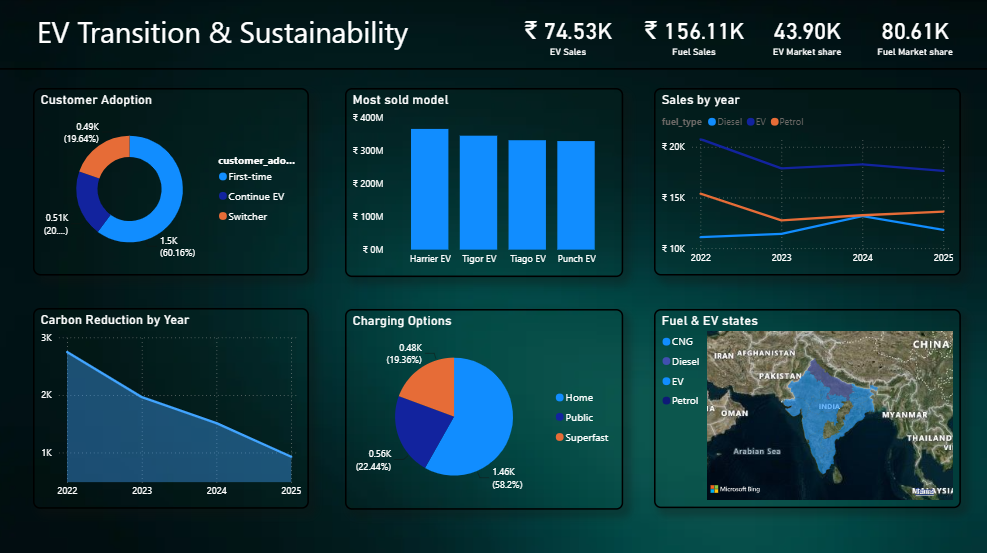

What the dashboard file says about the page in this screenshot:
{"tool":"powerbi","page":{"name":"Page 2","canvas":[1280,720],"ordinal":1},"visuals":[{"type":"donutChart","title":"Customer Adoption","fields":{"Category":["sustainability_data.customer_adoption"],"Y":["CountNonNull(sustainability_data.customer_adoption)"]},"box":[47,115.9,356.1,241.9],"z":0},{"type":"lineChart","title":"Sales by year","fields":{"Category":["transition_data.year"],"Y":["Sum(transition_data.total_sales)"],"Series":["transition_data.fuel_type"]},"box":[848.3,115.9,396.4,241.9],"z":1000},{"type":"pieChart","title":"Charging Options","fields":{"Y":["CountNonNull(sustainability_data.charging_type)"],"Category":["sustainability_data.charging_type"]},"box":[448.5,401.5,359.5,258.7],"z":2000},{"type":"areaChart","title":"Carbon Reduction by Year","fields":{"Y":["Sum(sustainability_data.carbon_reduction_tonnes)"],"Category":["sustainability_data.year"]},"box":[47,399.8,356.1,258.7],"z":3000},{"type":"filledMap","title":"Fuel & EV states","fields":{"Category":["car_data_cleaned.state"],"Series":["car_data_cleaned.fuel_type"]},"box":[848.3,401.5,396.4,257],"z":4000},{"type":"columnChart","title":"Most sold model","fields":{"Category":["car_data_cleaned.model"],"Y":["Sum(car_data_cleaned.price)"]},"box":[448.5,115.9,359.5,243.6],"z":5000},{"type":"textbox","box":[47,13.4,640,58.8],"z":6000},{"type":"card","fields":{"Values":["Sum(transition_data.total_sales)"]},"box":[676.6,13,121.4,69.4],"z":7000},{"type":"card","fields":{"Values":["Sum(transition_data.total_sales)"]},"box":[832.8,13,134.5,69.4],"z":8000},{"type":"card","fields":{"Values":["Sum(transition_data.market_share_percent)"]},"box":[986,13.4,119.3,68.9],"z":9000},{"type":"card","fields":{"Values":["Sum(transition_data.market_share_percent)"]},"box":[1125.5,13.4,119.3,68.9],"z":10000},{"type":"shape","box":[0,67.2,1280,48.7],"z":11000}]}

Visuals, with their boxes in screenshot pixels (x1, y1, x2, y2), scaled from the page's 1280x720 canvas onto the 987x553 screenshot:
"Customer Adoption" donutChart: 36,89,311,275
"Sales by year" lineChart: 654,89,960,275
"Charging Options" pieChart: 346,308,623,507
"Carbon Reduction by Year" areaChart: 36,307,311,506
"Fuel & EV states" filledMap: 654,308,960,506
"Most sold model" columnChart: 346,89,623,276
textbox: 36,10,530,55
card - Sum(transition_data.total_sales): 522,10,615,63
card - Sum(transition_data.total_sales): 642,10,746,63
card - Sum(transition_data.market_share_percent): 760,10,852,63
card - Sum(transition_data.market_share_percent): 868,10,960,63
shape: 0,52,986,89
